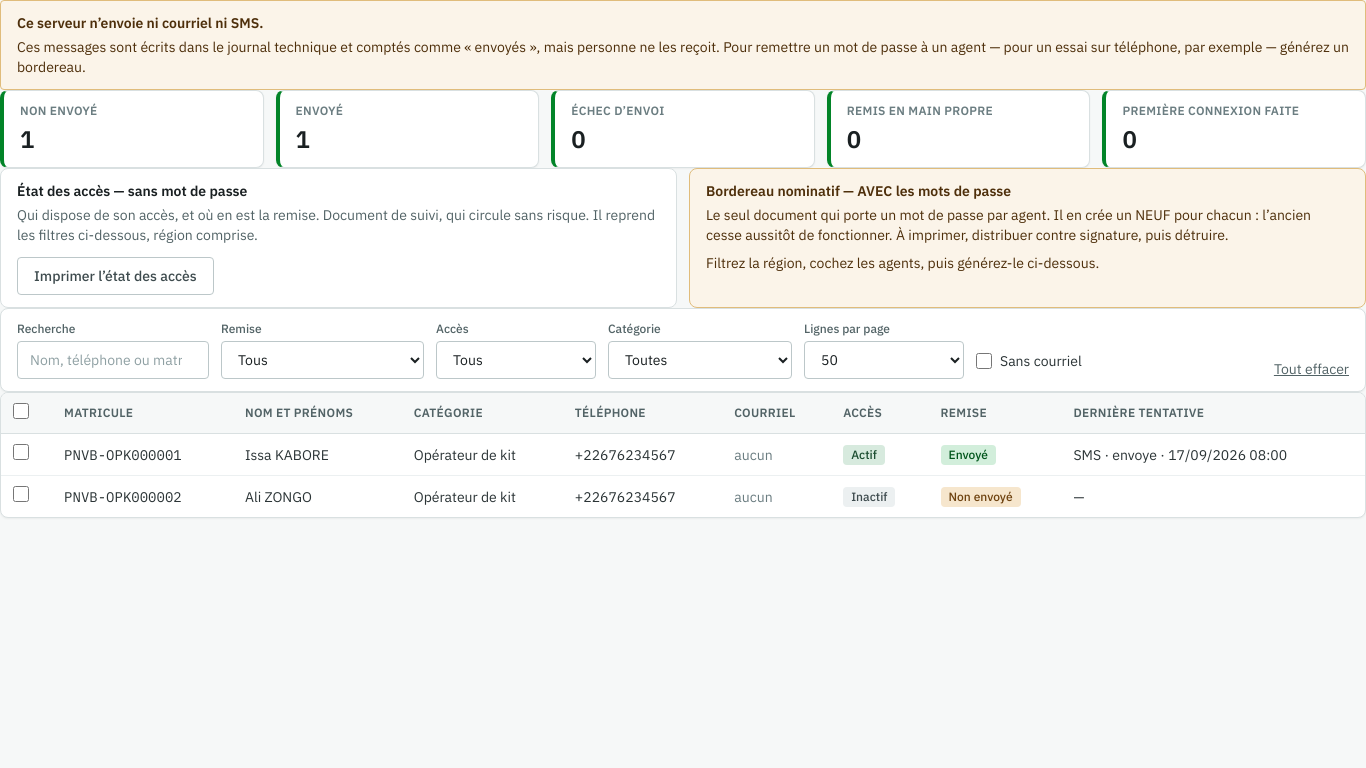
Test: Remise des identifiants › génère le bordereau puis le télécharge par son nom
Click the checkbox named "Cocher toute la page" at {"x": 21, "y": 411}, box [13,403,29,419]
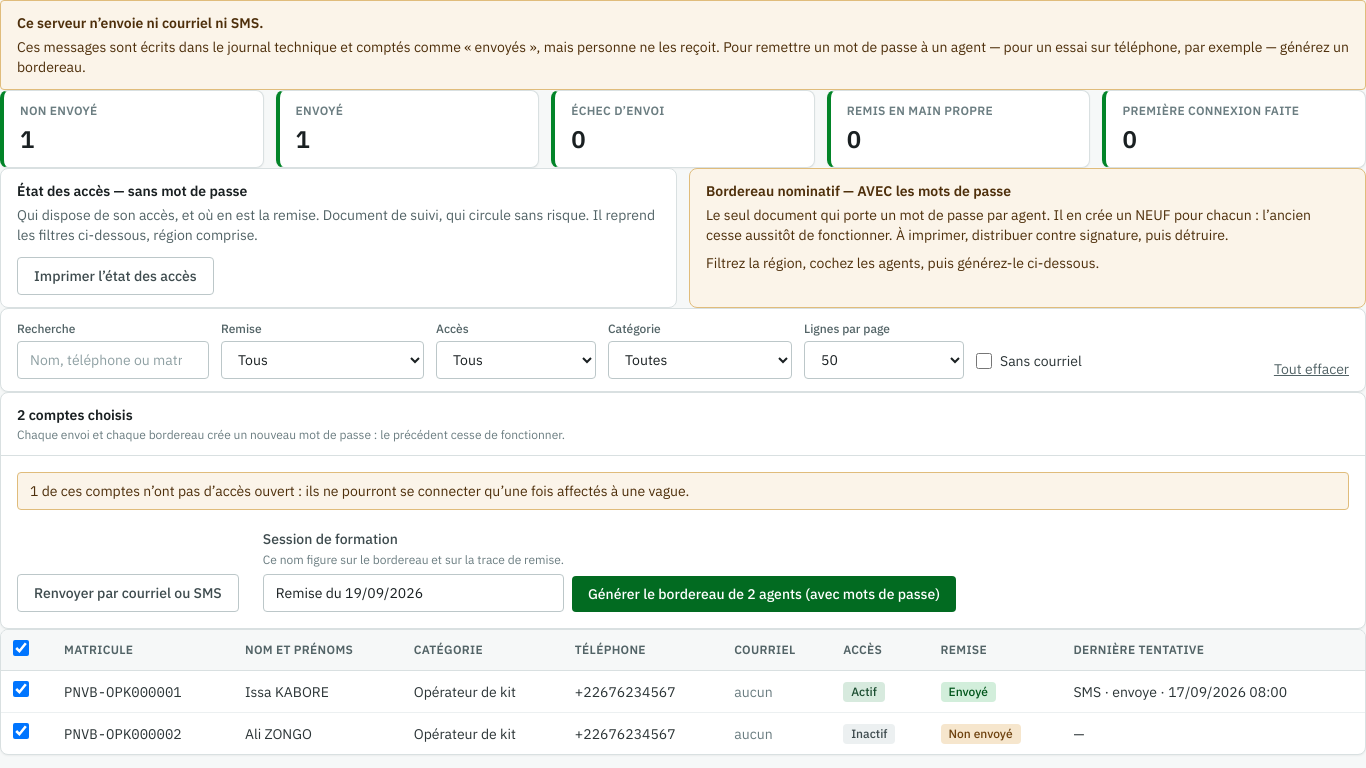
Result: the text "1 de ces comptes n’ont pas d’accès ouvert" is shown at [17,472,1349,510]
Replace the text in the field labelled "Session de formation" with "Test mobile" at {"x": 413, "y": 593}, box [263,574,564,612]
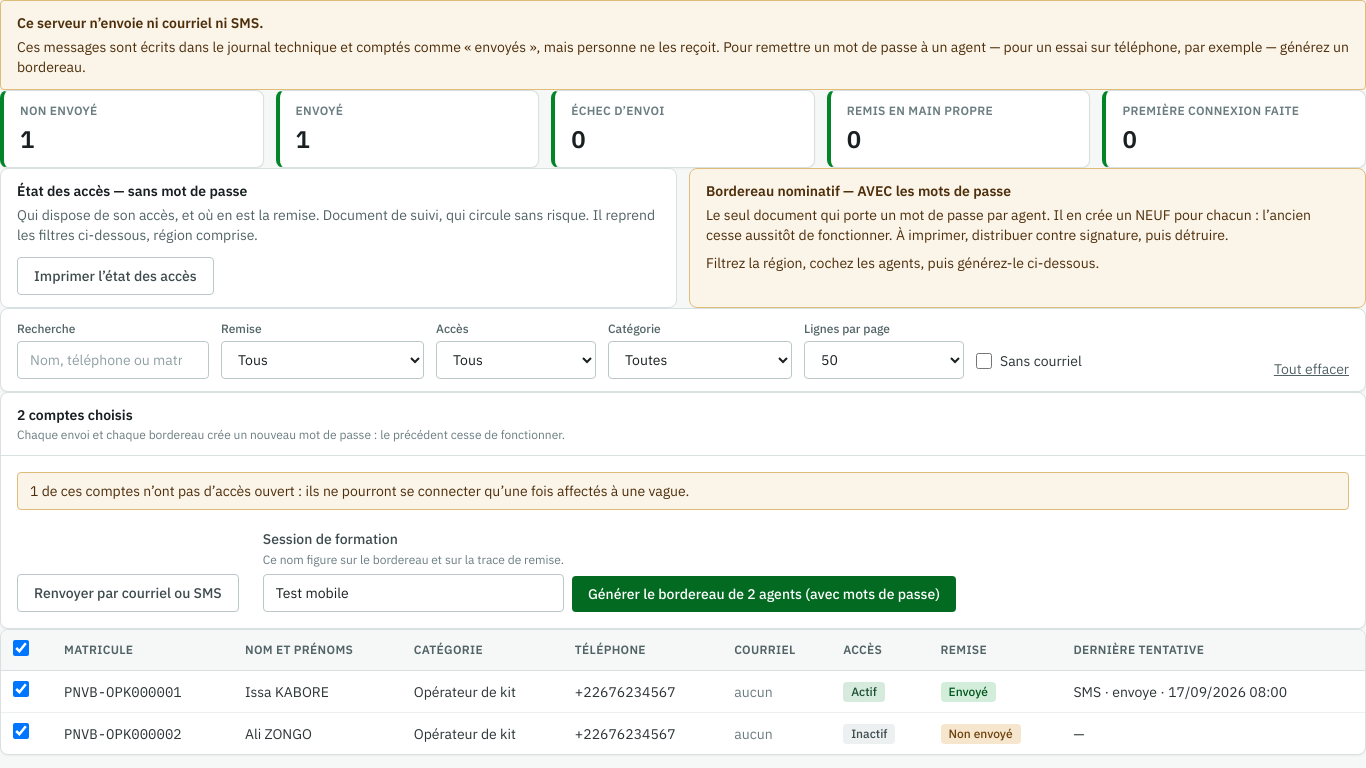
Click the button "Générer le bordereau de 2 agents (avec mots de passe)" at {"x": 764, "y": 594}, box [572,576,956,612]
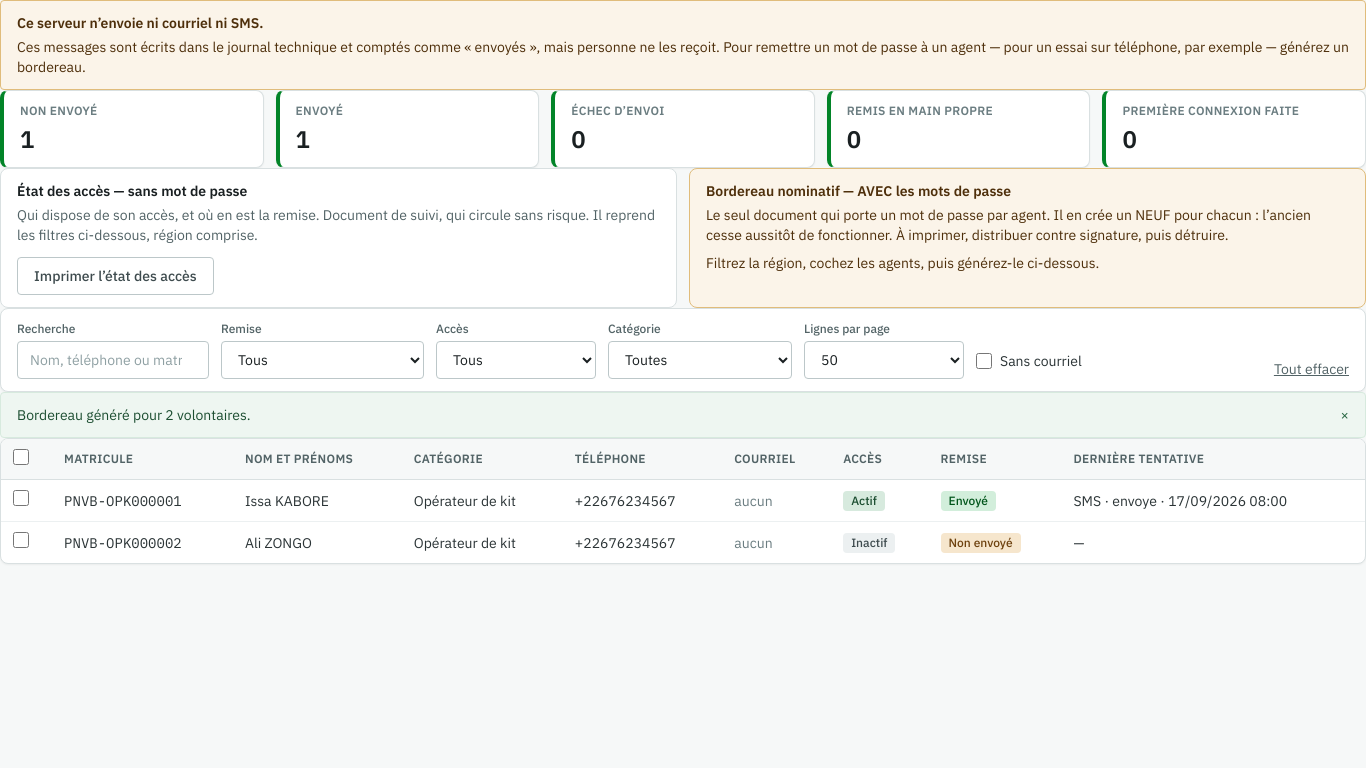
Result: the text "Bordereau généré pour 2 volontaires." is shown at [17,405,250,425]
